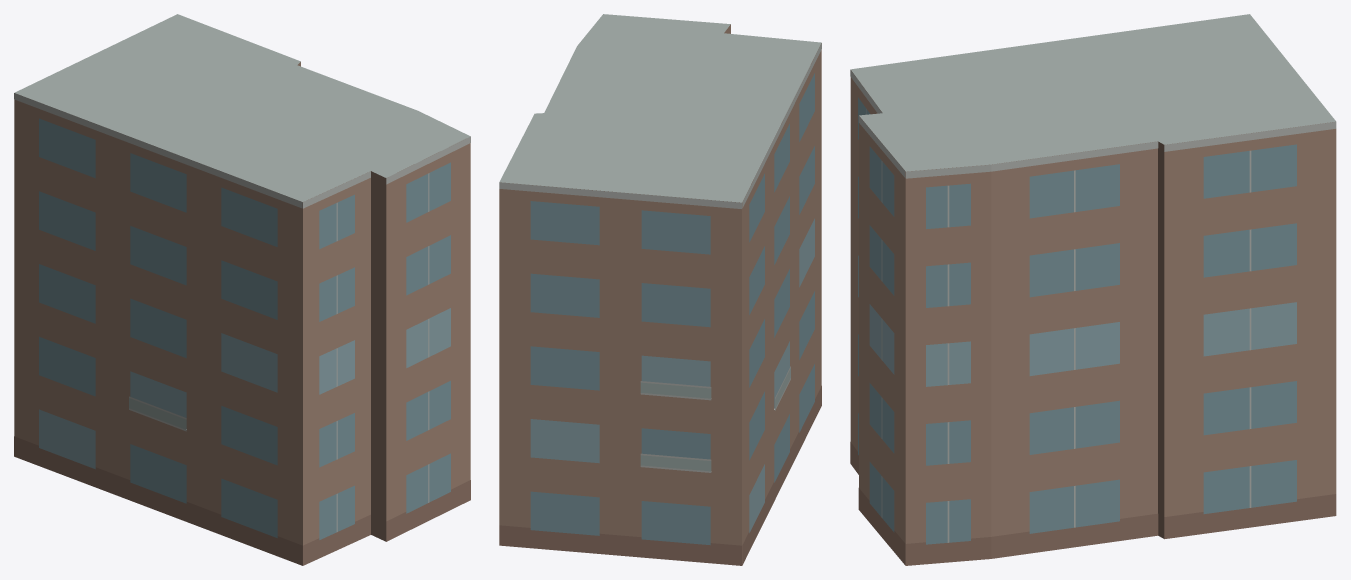
File: survey-upis-32938270.glb
3 views of the same model, side by side, from view 1: azimuth 30°, elevation 25°; view 2: azimuth 150°, elevation 25°; view 3: azimuth 270°, elevation 25° (orthographic). The views are drawn at different scales.
Parts seen in each view (by area): view 1: survey-upis-32938270.tmp; view 2: survey-upis-32938270.tmp; view 3: survey-upis-32938270.tmp.
Boxes of the visible parts, box(x1,y1,x2,y2) form: survey-upis-32938270.tmp: box(14, 14, 470, 565); survey-upis-32938270.tmp: box(499, 14, 821, 565); survey-upis-32938270.tmp: box(850, 14, 1336, 565).
Size of the model in its own units: 11.58 by 13.5 by 15.09.
